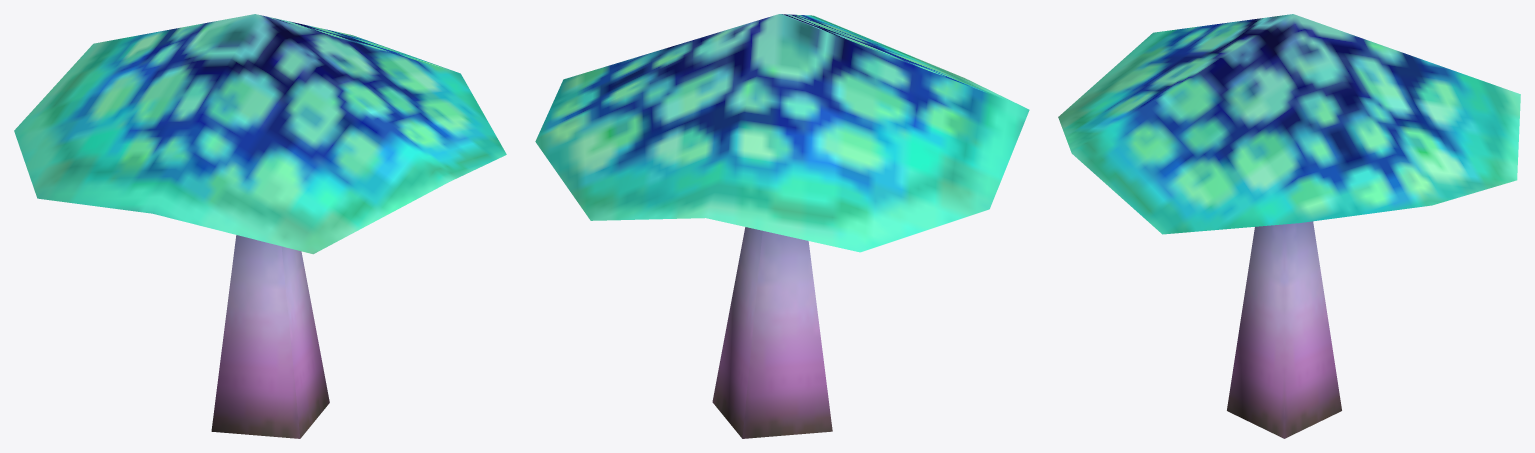
Rendered from 6001_Item_mogu_2.FBX.
The picture shows the model from 3 angles, left to right: view 1: azimuth 30°, elevation 25°; view 2: azimuth 150°, elevation 25°; view 3: azimuth 270°, elevation 25°; orthographic projection. The views are drawn at different scales.
Visible parts, largest first — view 1: 6001_Item_mogu_2; view 2: 6001_Item_mogu_2; view 3: 6001_Item_mogu_2.
Part boxes in pixels (x1,y1,x2,y2): 6001_Item_mogu_2: (14,14,506,438); 6001_Item_mogu_2: (535,14,1029,438); 6001_Item_mogu_2: (1058,14,1520,438).
Bounding box in the file's own units: 510 × 466 × 499.
